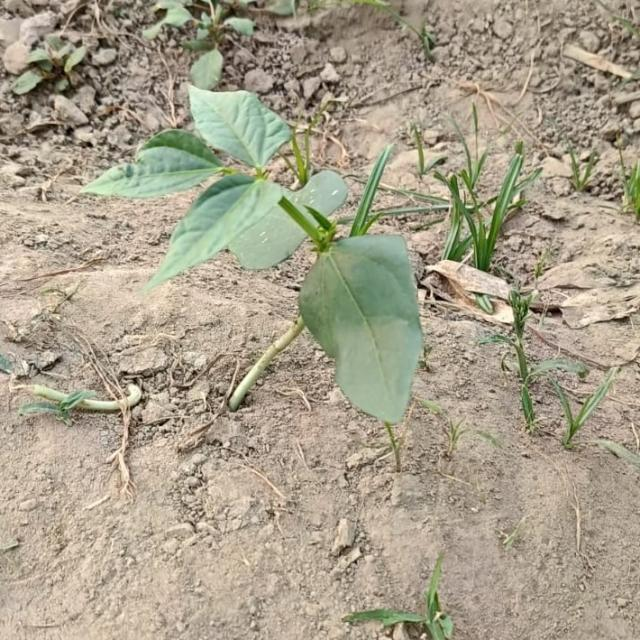plant: (83, 86, 423, 425)
